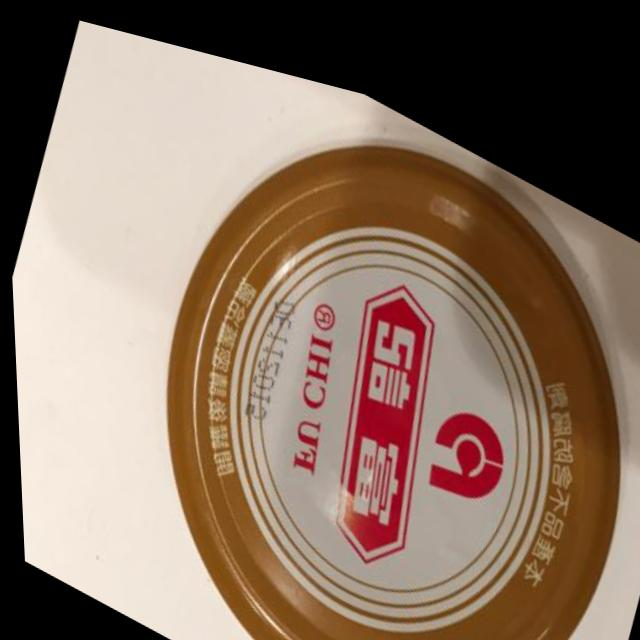metal: (17, 4, 640, 640)
